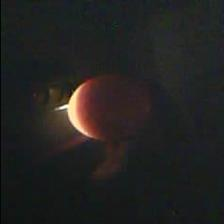fertile: (62, 71, 156, 147)
